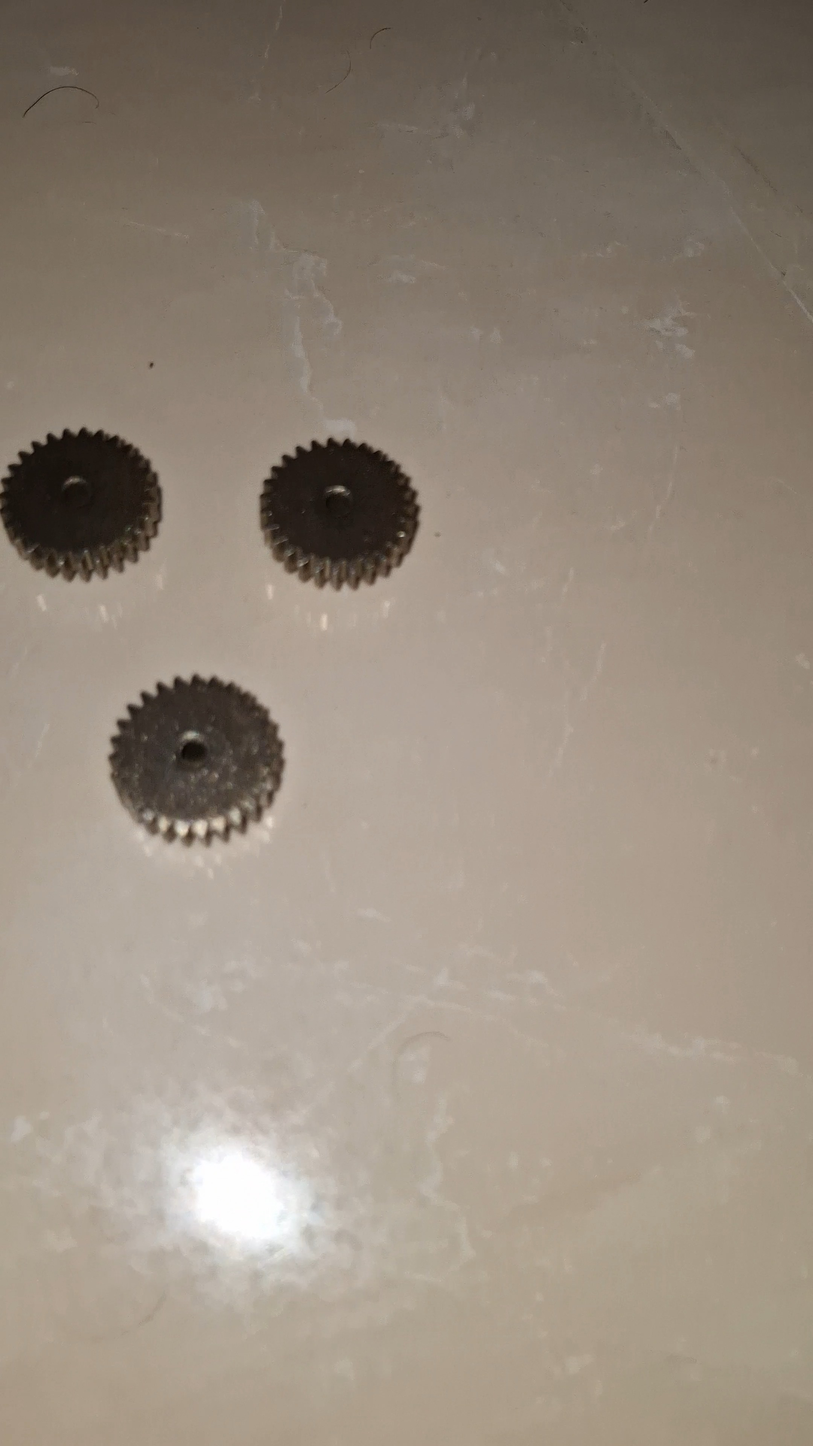spur gear: (110, 676, 283, 842), (0, 429, 161, 580), (260, 439, 419, 588)
